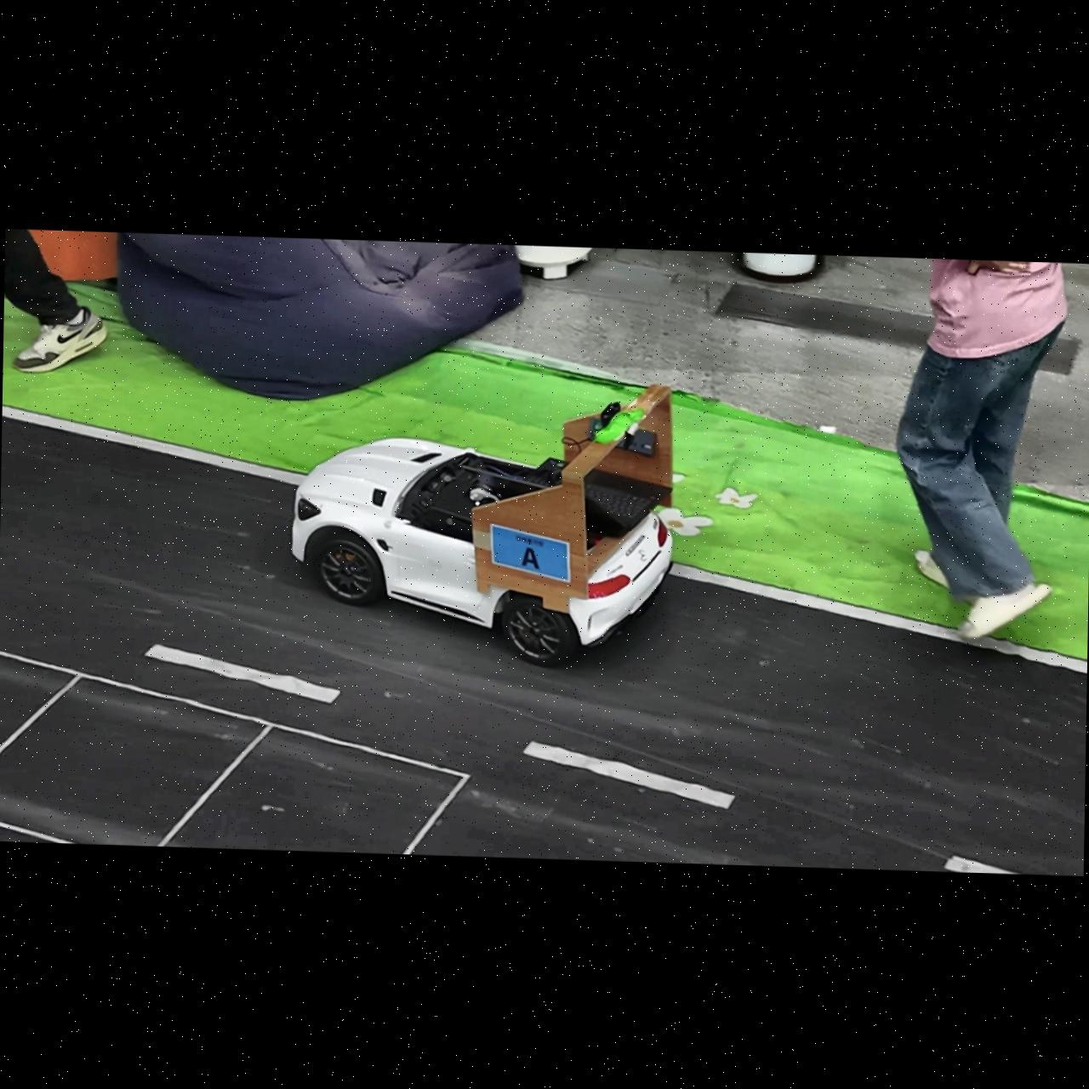broken_line: (522, 740, 737, 809), (145, 644, 341, 703), (945, 856, 1018, 874)
